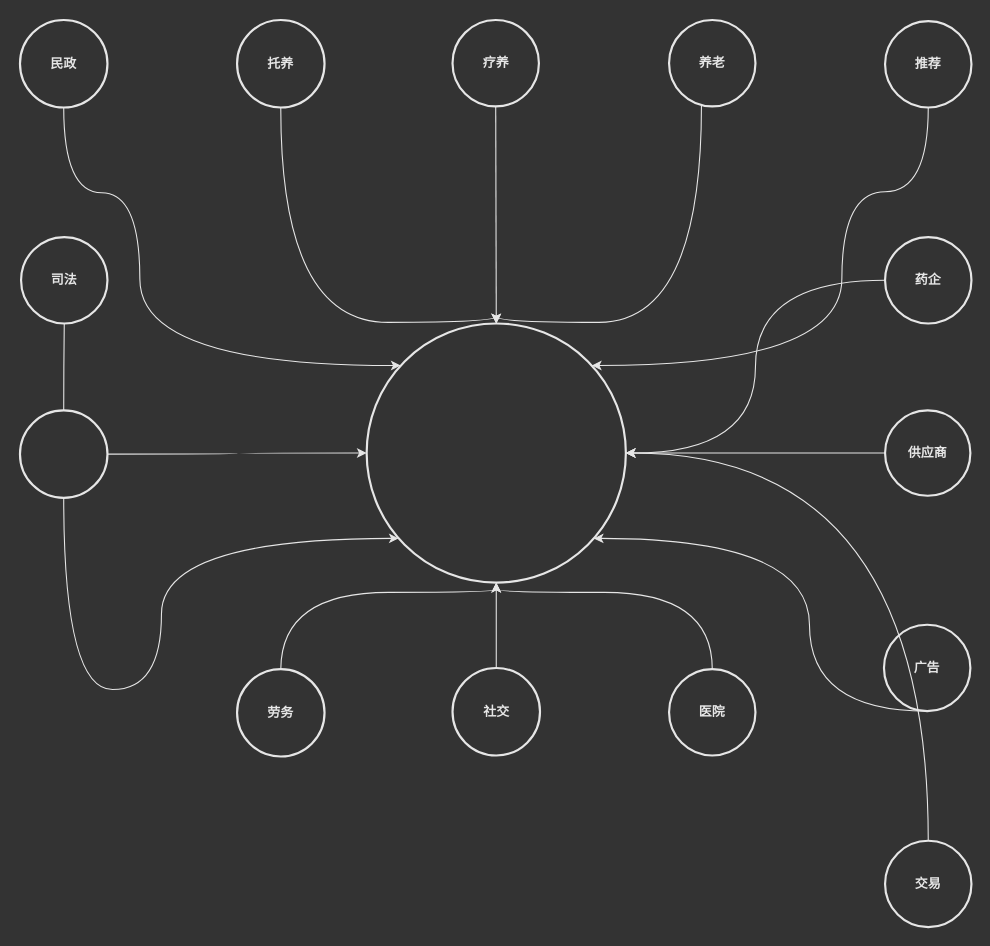
Image size: 990x946. Some labels were removed from this diagram. Each missing label, with the centre of its shape:
大清谷疗养云: the point at 495,452
渠道: the point at 63,453
